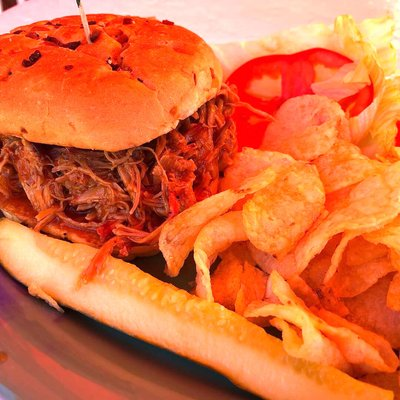soup: (0, 5, 330, 396), (0, 6, 241, 334)
